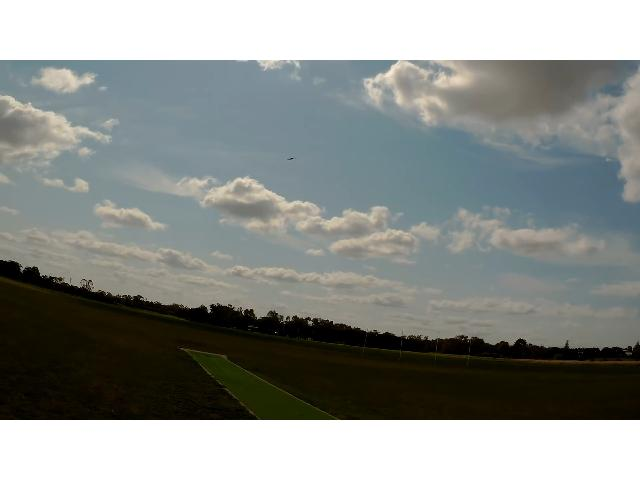Anti-Drone: (268, 145, 310, 171)
